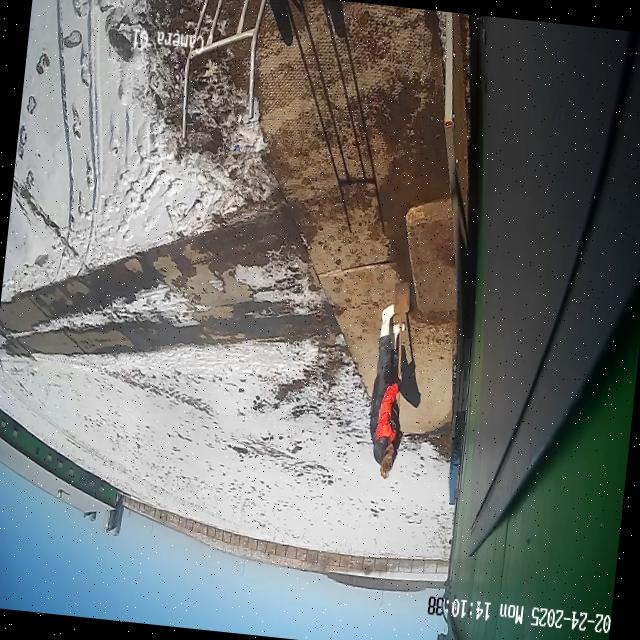Red uniform: (360, 299, 418, 482)
